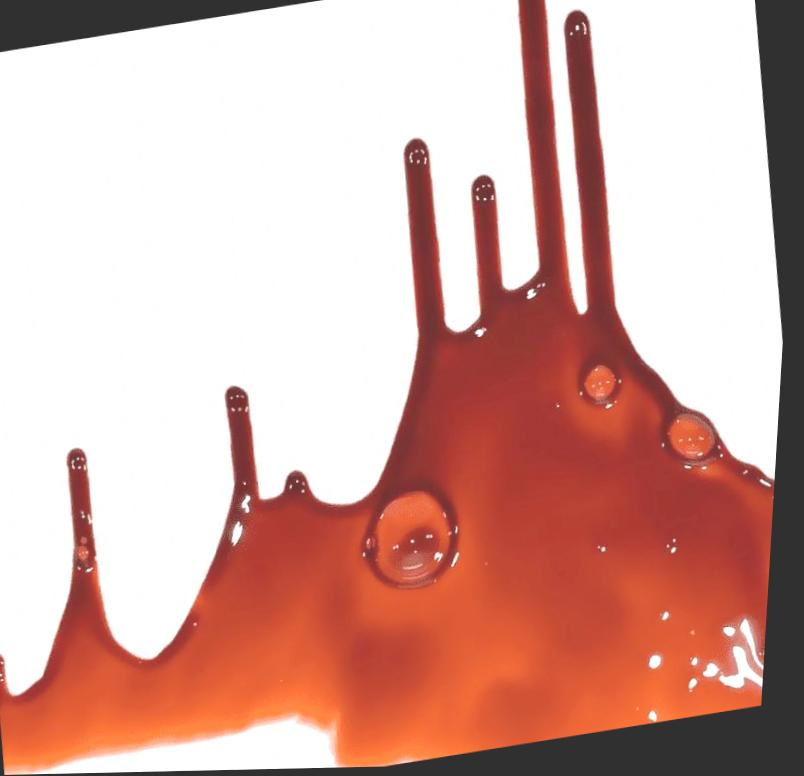Fire: (3, 0, 781, 775)
